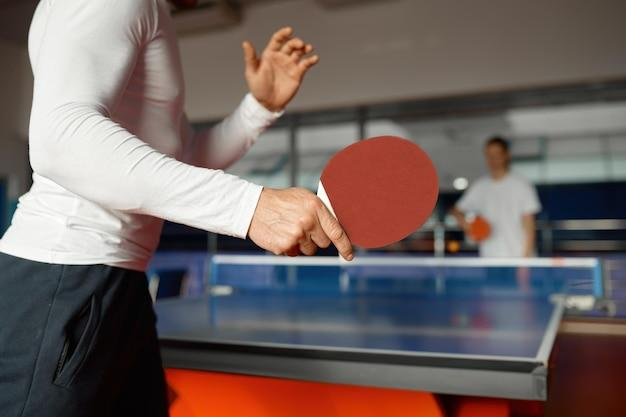ball_pingpong: (454, 175, 468, 190)
